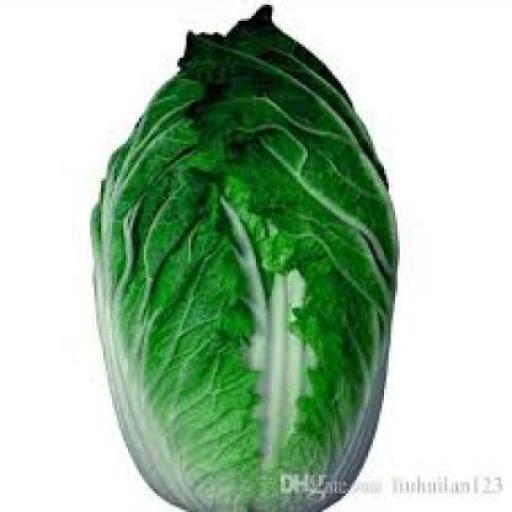biodegradable: (88, 2, 398, 510)
